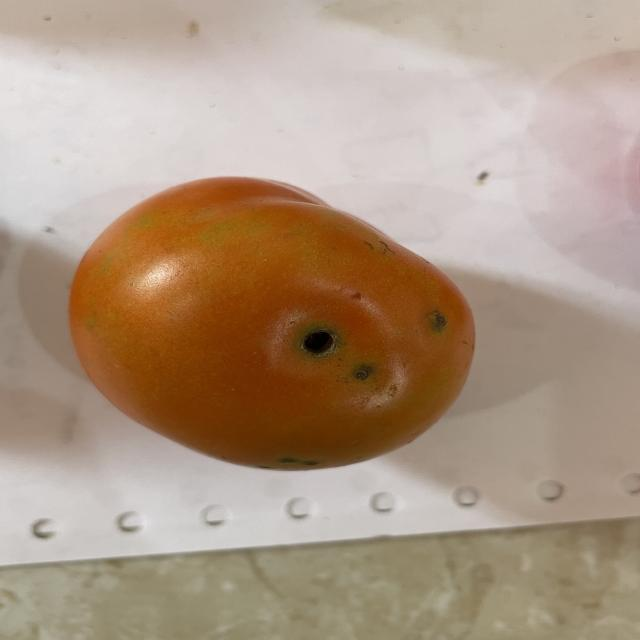fruitworm_bore: (295, 318, 383, 392), (422, 304, 454, 335)
